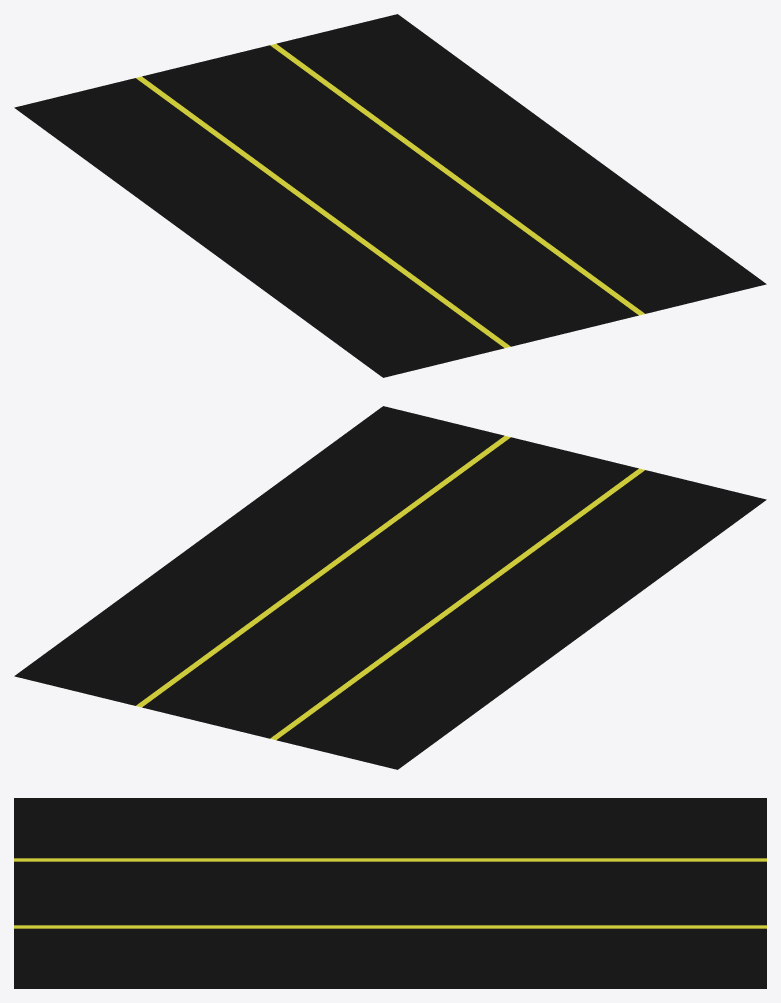
File: road.fbx
The picture shows the model from 3 angles, top to bottom: view 1: azimuth 30°, elevation 25°; view 2: azimuth 150°, elevation 25°; view 3: azimuth 270°, elevation 25°; orthographic projection.
Parts seen in each view (by area): view 1: road; view 2: road; view 3: road.
Part boxes in pixels (left/top/right/bottom): road: left=14, top=14, right=766, bottom=377; road: left=14, top=406, right=766, bottom=769; road: left=14, top=798, right=766, bottom=988.
Size of the model in its own units: 600 by 0 by 1000.
